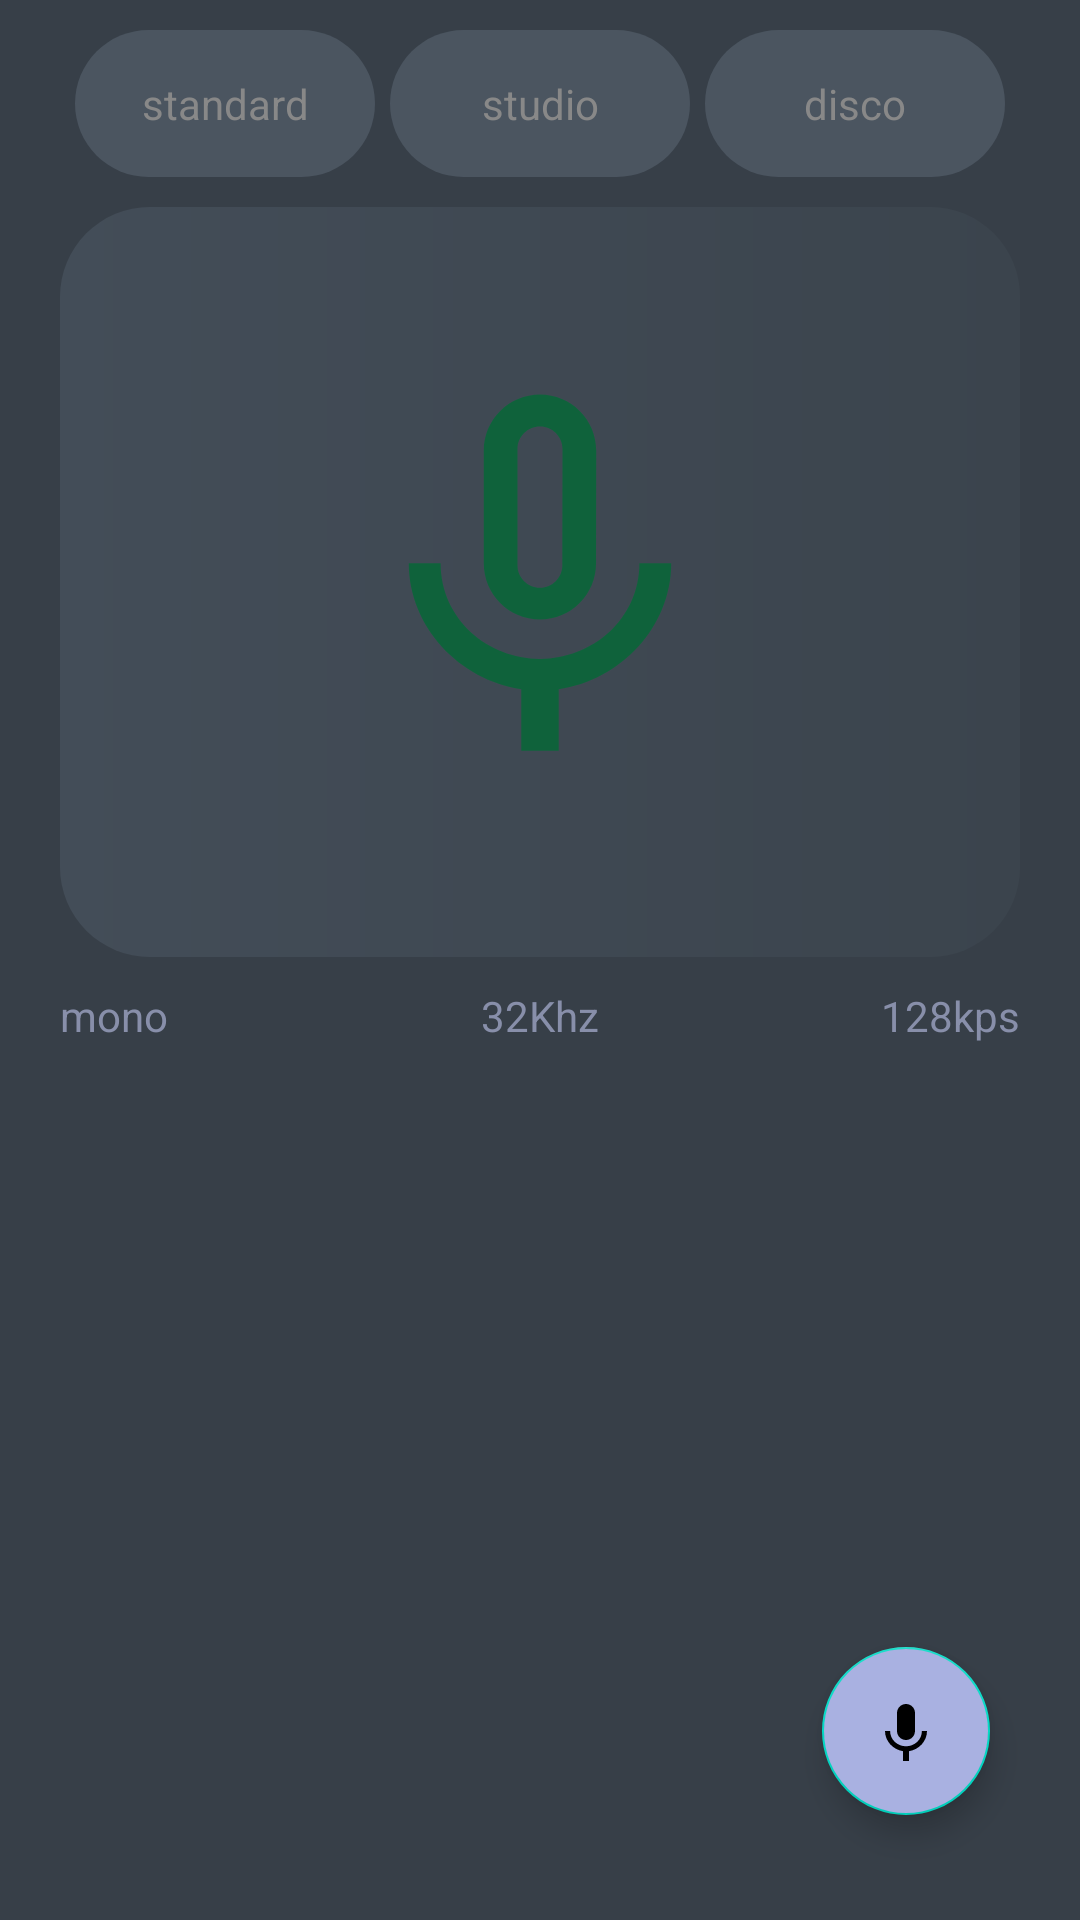

Icons on this 1080 × 1920 Android screen, each with its box as bbox(x1, y1, x2, y2):
keyboard voice: bbox(822, 1647, 990, 1815)
mic none: bbox(409, 394, 671, 751)
